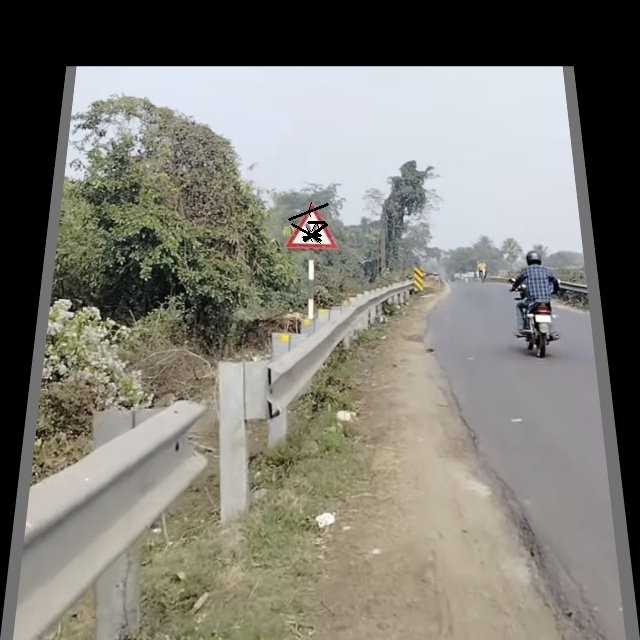Narrow_Bridge: (288, 204, 331, 247)
